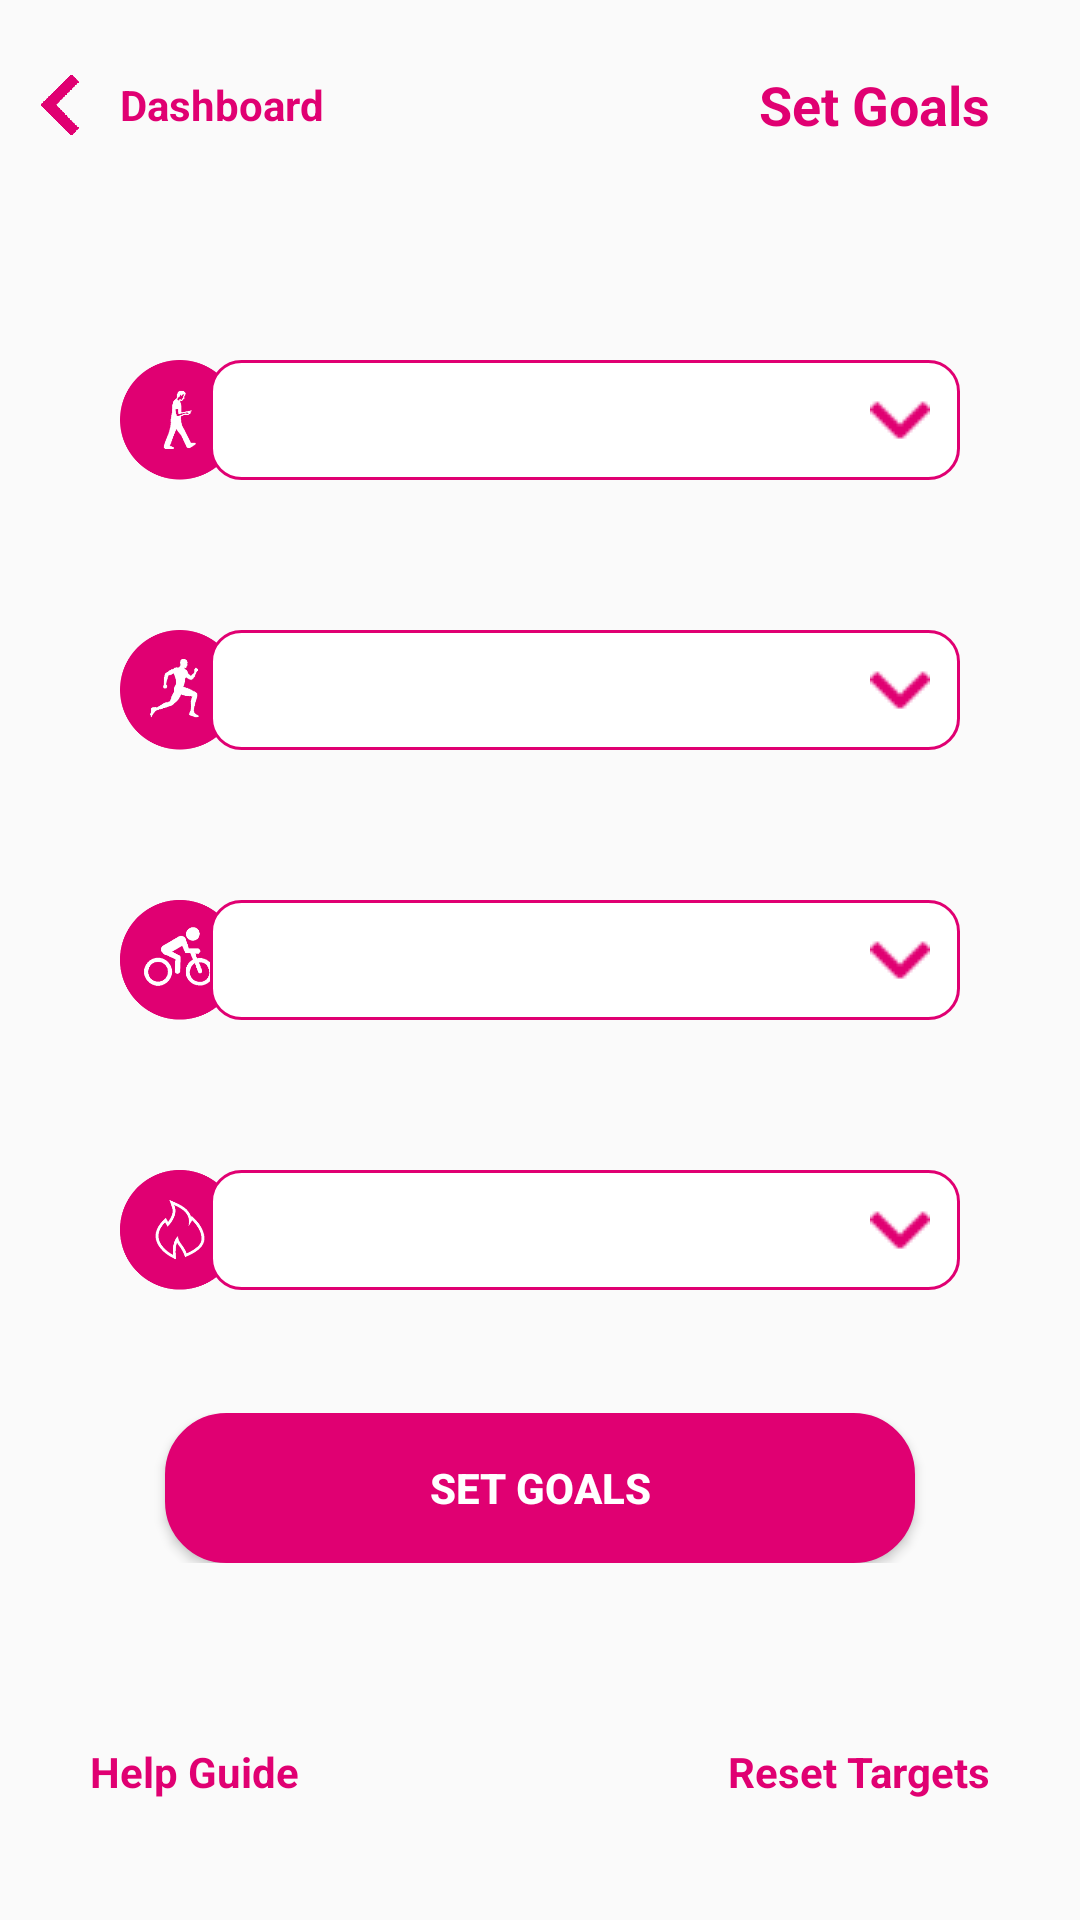

Screen size 1080px×1920px. Icon name, then its box in pixels as (x1, y1, x2, y2):
back: (41, 75, 79, 135)
setgoalcalorie: (120, 1170, 240, 1290)
setgoalcycling: (120, 900, 240, 1020)
setgoalrunning: (120, 630, 240, 750)
setgoalwalk: (120, 360, 240, 480)
